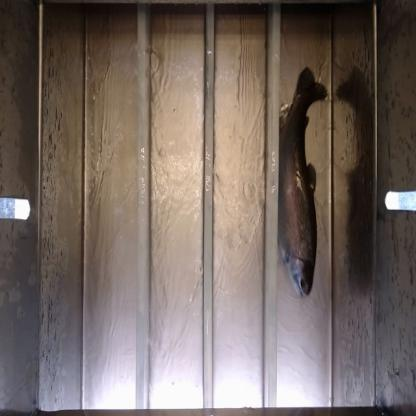pezw: (277, 60, 325, 302)
